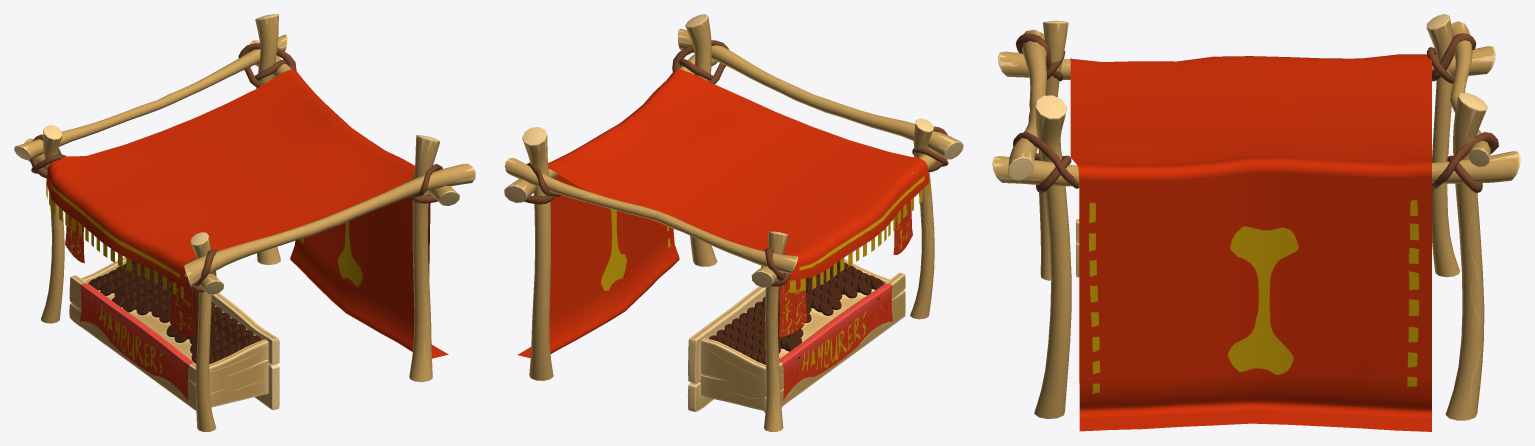
Rendered from HamburgerStand.fbx.
3 views of the same model, side by side, from view 1: azimuth 30°, elevation 25°; view 2: azimuth 150°, elevation 25°; view 3: azimuth 270°, elevation 25° (orthographic). The views are drawn at different scales.
Visible parts, largest first — view 1: Cloth (×2), WoodFrames, MarketEtalage, Hamburgers, Rope, RightCloth, ClothFranjes, LeftCloth; view 2: Cloth (×2), WoodFrames, MarketEtalage, Hamburgers, Rope, LeftCloth, ClothFranjes, RightCloth; view 3: Cloth, WoodFrames, Rope.
Boxes of the visible parts, bbox=[...] form: Cloth (×2): bbox=[46, 69, 448, 400]; WoodFrames: bbox=[14, 14, 475, 431]; MarketEtalage: bbox=[69, 257, 279, 410]; Hamburgers: bbox=[88, 261, 261, 364]; Rope: bbox=[30, 43, 442, 292]; RightCloth: bbox=[170, 276, 196, 337]; ClothFranjes: bbox=[46, 184, 183, 298]; LeftCloth: bbox=[65, 215, 84, 263]; Cloth (×2): bbox=[518, 69, 929, 400]; WoodFrames: bbox=[504, 14, 963, 431]; MarketEtalage: bbox=[687, 258, 905, 412]; Hamburgers: bbox=[709, 260, 883, 364]; Rope: bbox=[524, 40, 948, 286]; LeftCloth: bbox=[779, 278, 807, 337]; ClothFranjes: bbox=[790, 183, 929, 292]; RightCloth: bbox=[893, 200, 912, 254]; Cloth: bbox=[1070, 54, 1431, 431]; WoodFrames: bbox=[992, 14, 1520, 420]; Rope: bbox=[1013, 33, 1498, 192].
Size of the model in its own units: 3.59 by 3.05 by 4.33.
4 materials, 4 textured.
